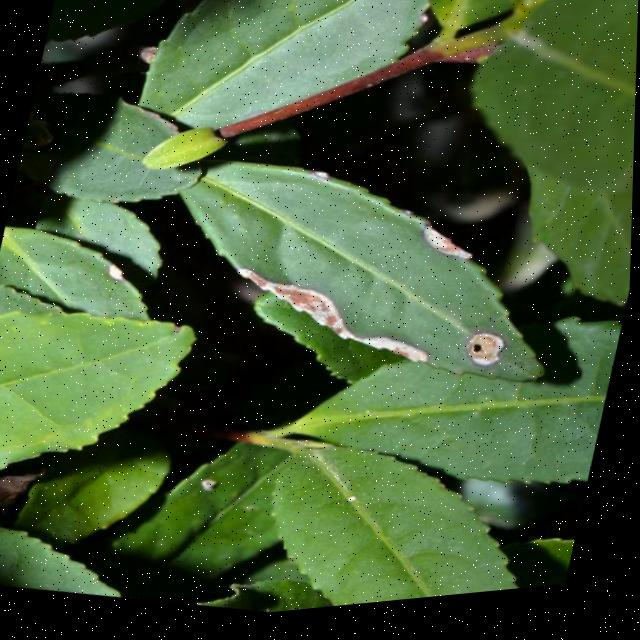Tea cloud leaf blight: (223, 247, 439, 390), (407, 223, 489, 279)
